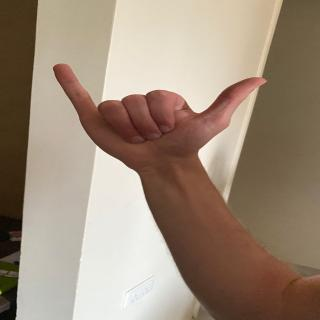YA: (46, 58, 276, 162)
